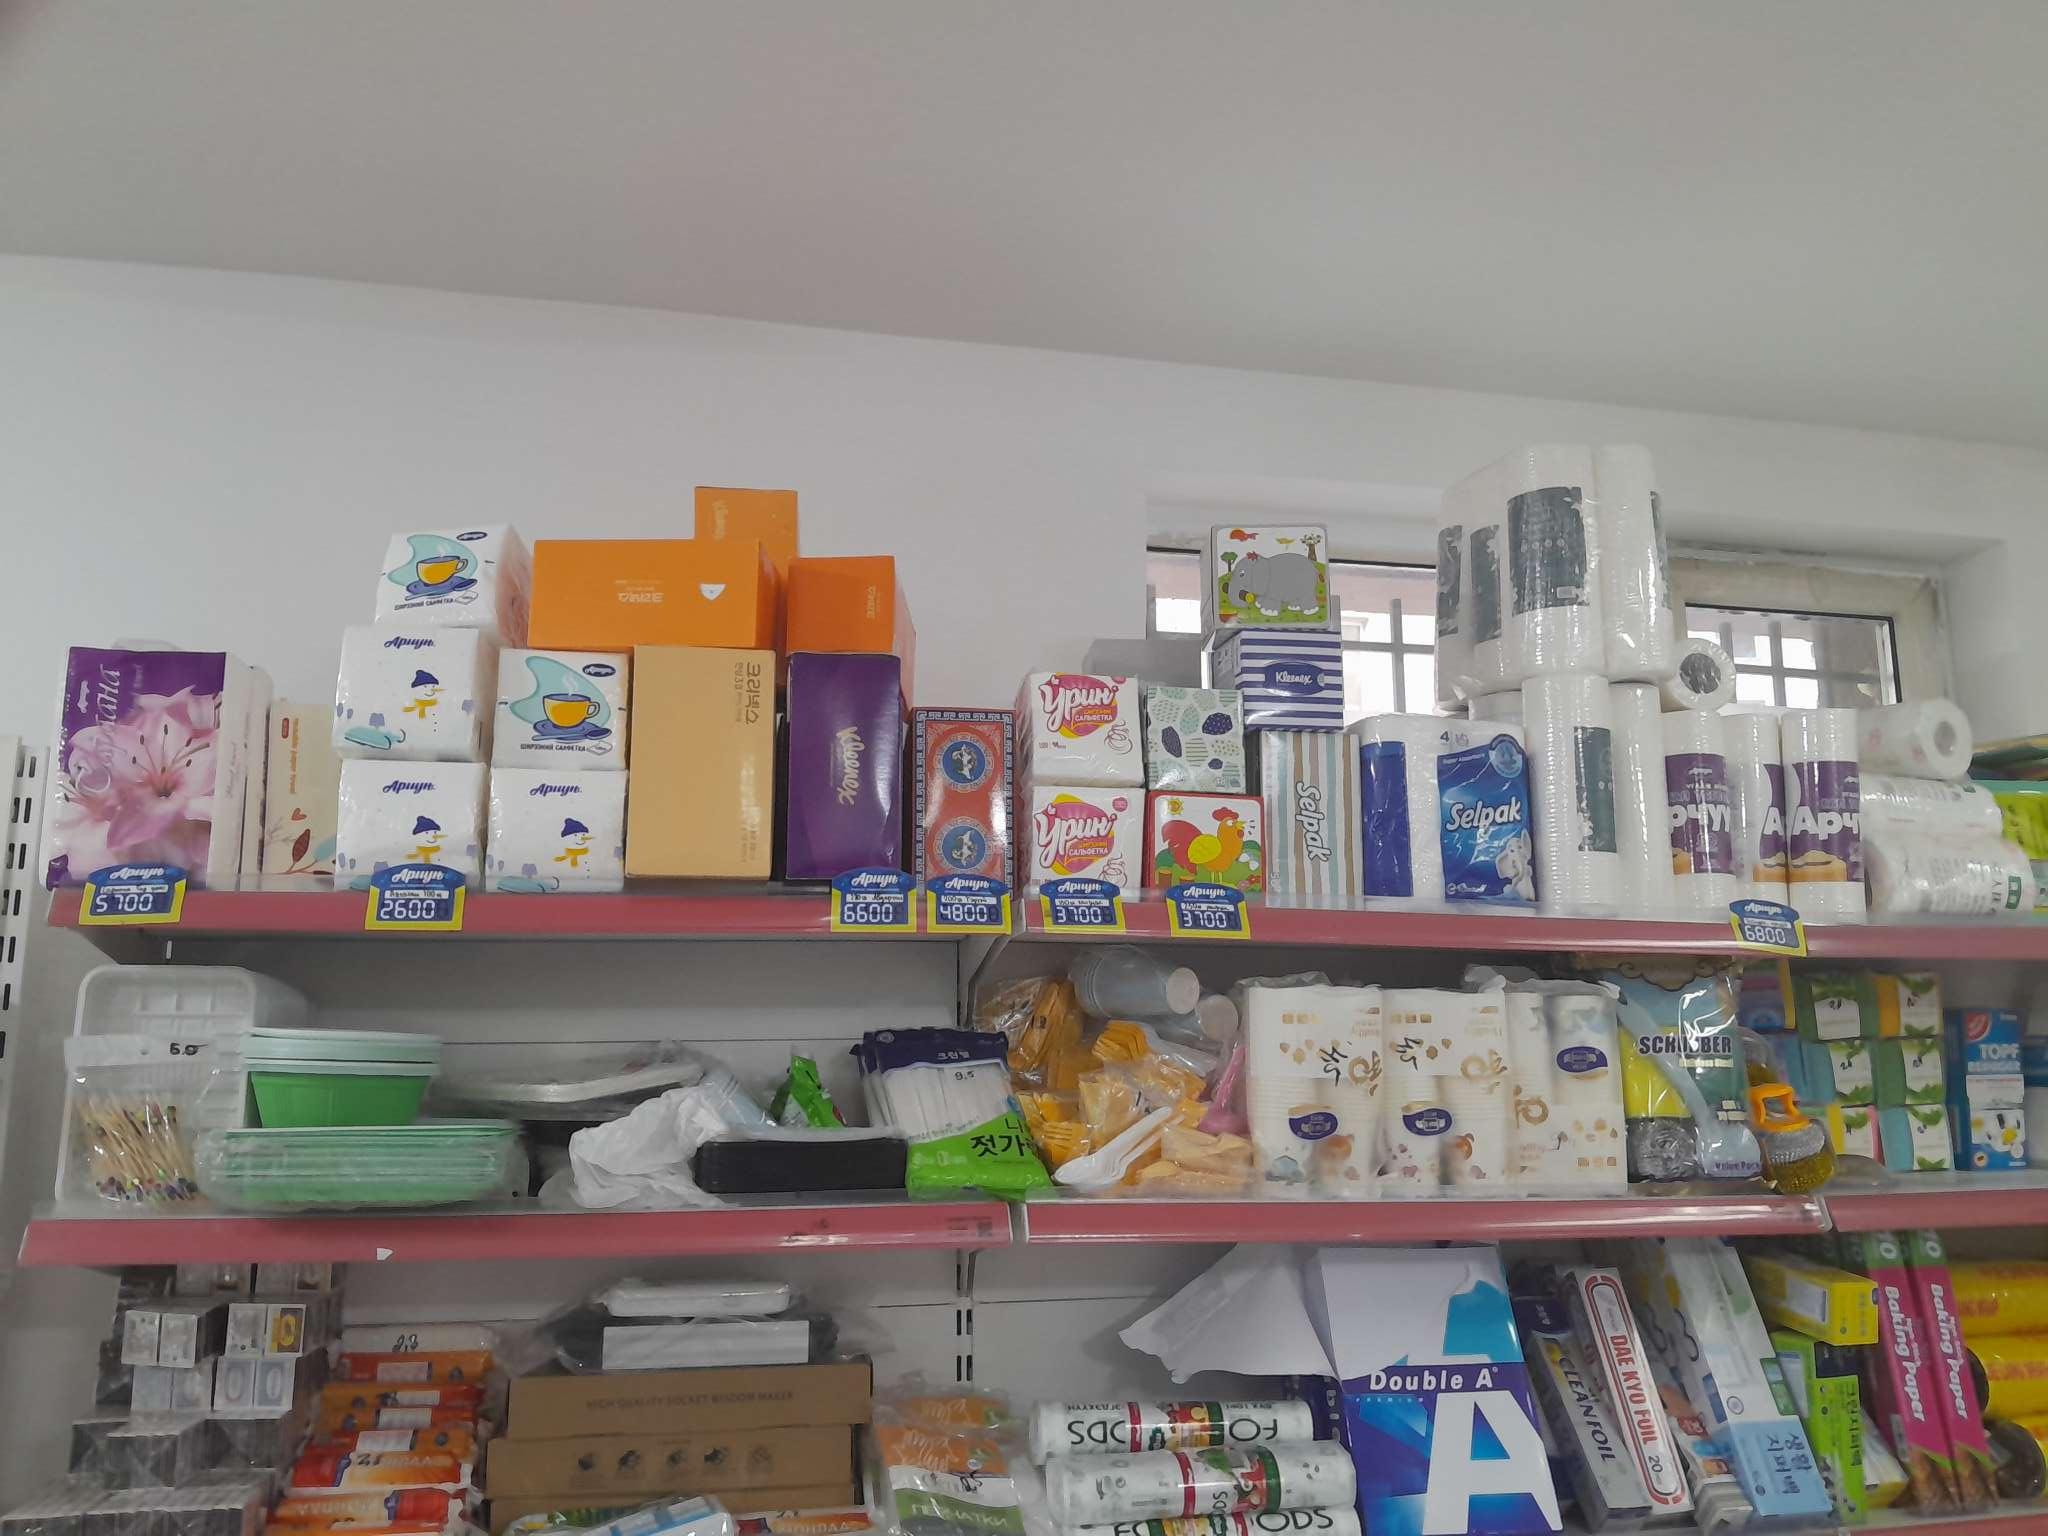ariun: (916, 707, 1024, 889), (489, 770, 640, 897), (348, 632, 481, 770), (340, 770, 474, 892), (508, 660, 629, 778), (381, 524, 500, 632), (1145, 679, 1242, 795), (1222, 529, 1334, 629), (1151, 807, 1258, 892)
kleenex tissue: (631, 649, 769, 879), (784, 653, 897, 879), (532, 536, 761, 642), (1238, 628, 1348, 737), (795, 553, 893, 660)
saraana: (73, 644, 234, 881)
selpak: (1364, 726, 1535, 905), (1256, 745, 1350, 912)
urin: (1035, 668, 1148, 781), (1039, 795, 1143, 897)
